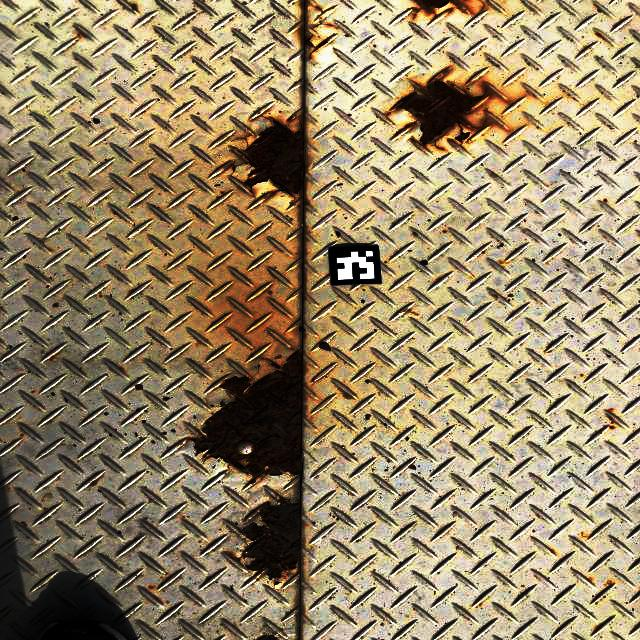Corrosion: (194, 349, 303, 485), (390, 81, 486, 145), (233, 120, 304, 201), (243, 497, 301, 580), (302, 33, 330, 58), (257, 635, 280, 640)
